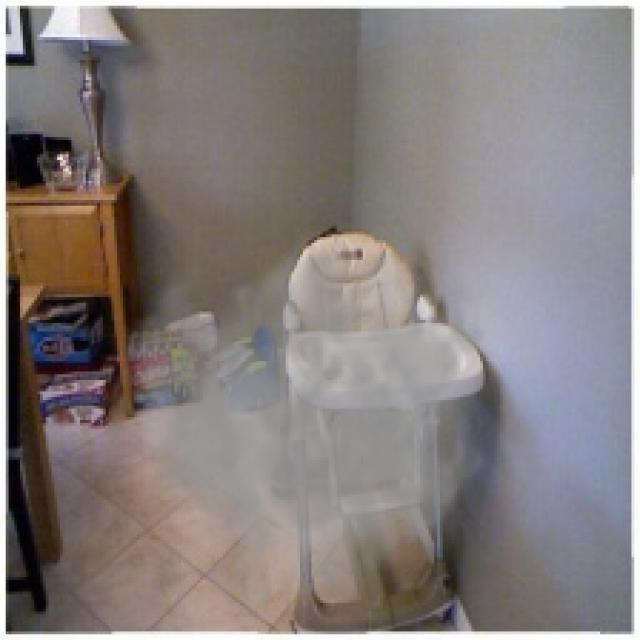Smoke: (94, 217, 500, 626)
